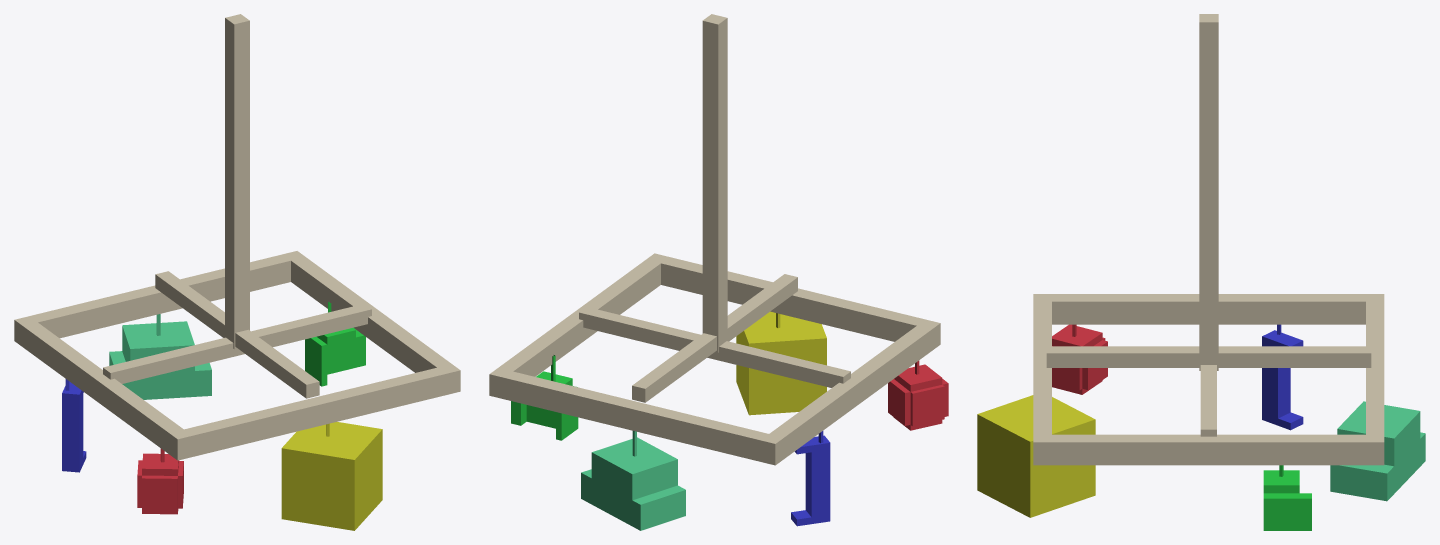
The model's file is cribAcessory.fbx.
The picture shows the model from 3 angles, left to right: view 1: azimuth 30°, elevation 25°; view 2: azimuth 150°, elevation 25°; view 3: azimuth 270°, elevation 25°; orthographic projection. The views are drawn at different scales.
Parts seen in each view (by area): view 1: cribAcessory, cribAcessory_toys; view 2: cribAcessory, cribAcessory_toys; view 3: cribAcessory, cribAcessory_toys.
Boxes of the visible parts, x1,y1,x2,y2 form: cribAcessory: [14, 14, 460, 460]; cribAcessory_toys: [62, 301, 382, 530]; cribAcessory: [489, 14, 940, 465]; cribAcessory_toys: [511, 311, 948, 530]; cribAcessory: [1033, 14, 1384, 465]; cribAcessory_toys: [977, 324, 1425, 530].
Size of the model in its own units: 151 by 199 by 171.
